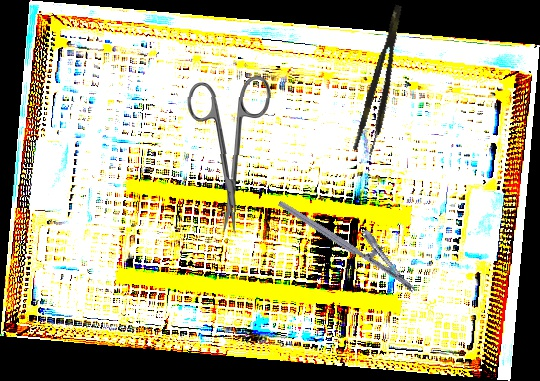Iris Scissors: (185, 74, 271, 235)
Needle Holder: (277, 181, 428, 294)
Tissue Forceps: (351, 3, 416, 156)
